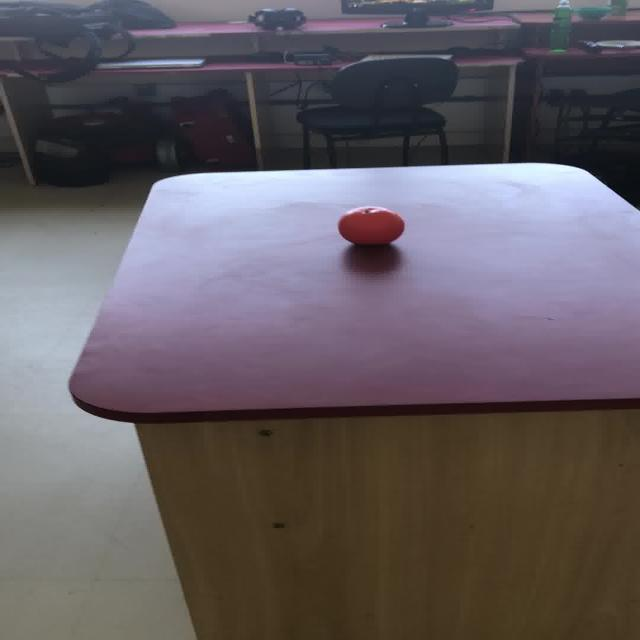orange: (336, 205, 404, 245)
